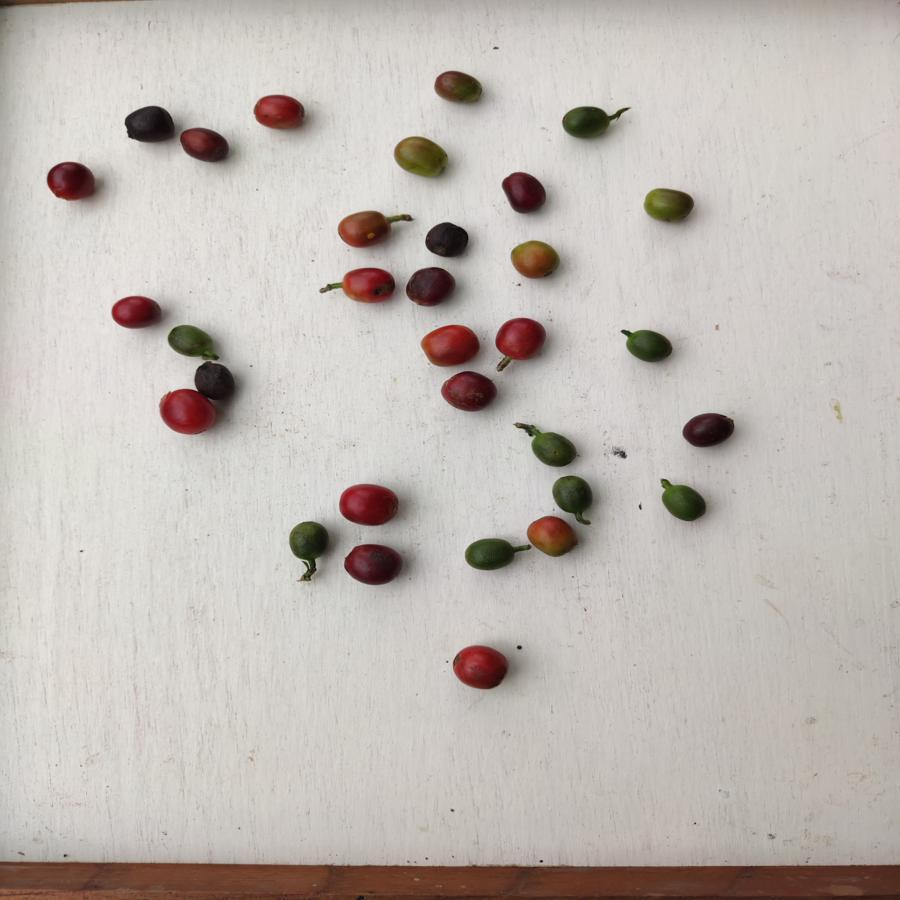Inmaduro: (560, 102, 613, 143), (528, 429, 580, 469), (659, 482, 708, 522), (624, 327, 673, 364), (166, 324, 216, 359), (289, 521, 331, 562), (464, 538, 515, 571), (552, 472, 592, 513)
Maduro: (156, 389, 218, 437), (418, 322, 482, 367), (450, 644, 511, 691), (338, 481, 399, 526), (339, 262, 397, 305), (496, 317, 547, 361), (250, 94, 311, 129)
Pinton: (392, 135, 450, 178), (525, 516, 581, 559), (507, 238, 562, 280), (641, 186, 695, 226), (335, 211, 393, 247), (432, 71, 484, 106)
Sobremaduro: (343, 539, 404, 586), (441, 370, 499, 415), (676, 413, 737, 450), (47, 161, 100, 203), (122, 105, 177, 145), (406, 265, 456, 309), (179, 126, 231, 168), (108, 292, 164, 331), (421, 220, 472, 260), (501, 170, 547, 214)
